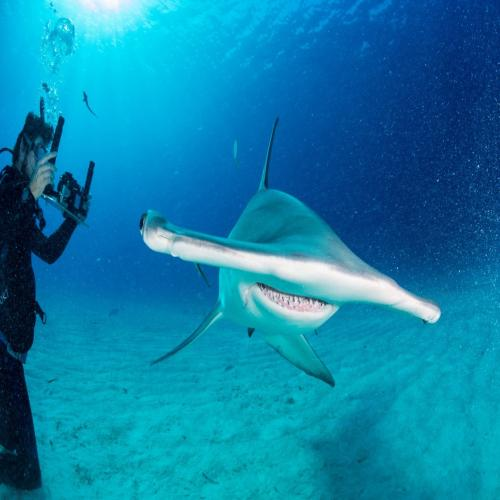shark-endangered: (138, 117, 442, 390)
